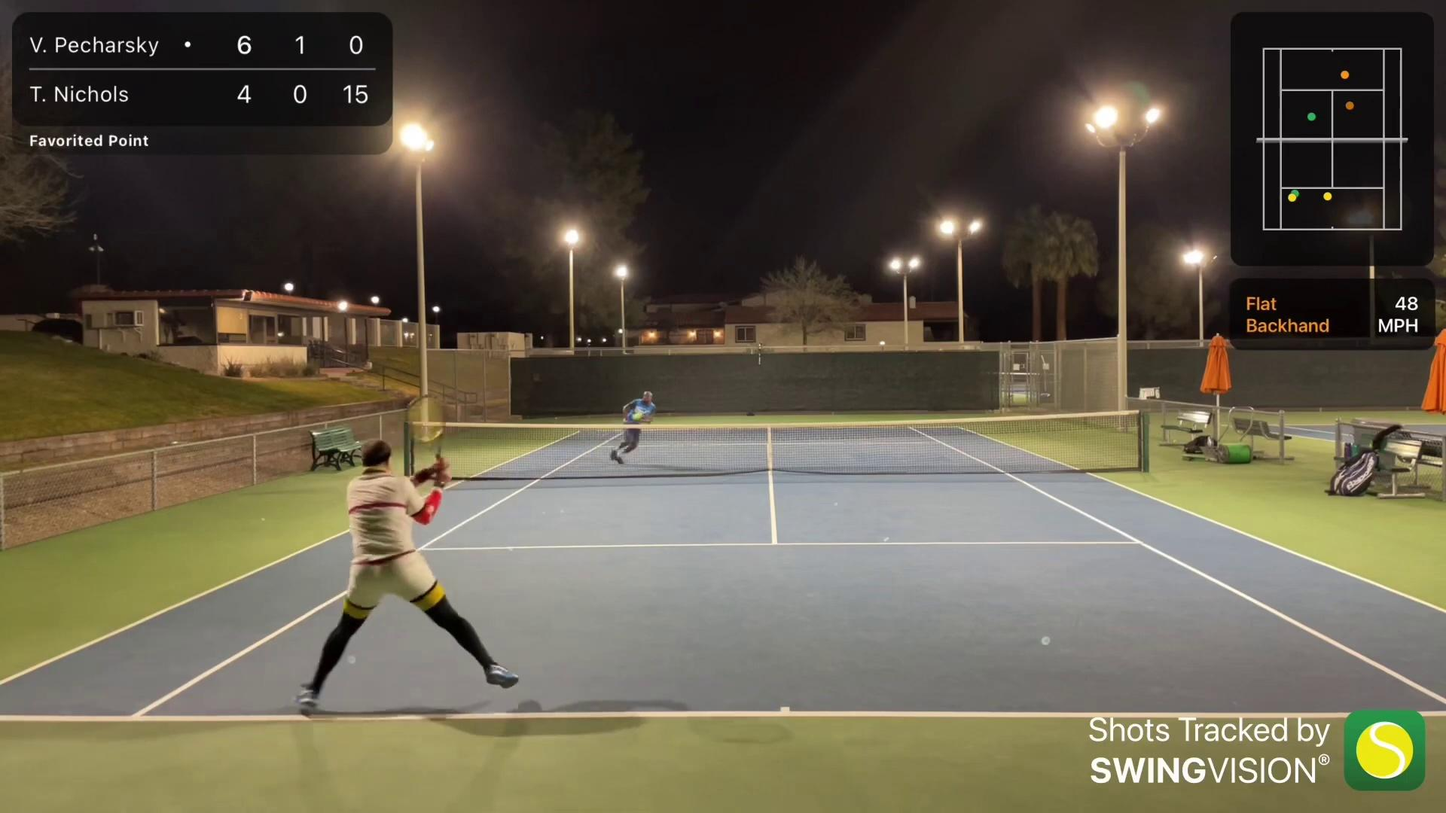ball: (633, 410, 644, 421)
